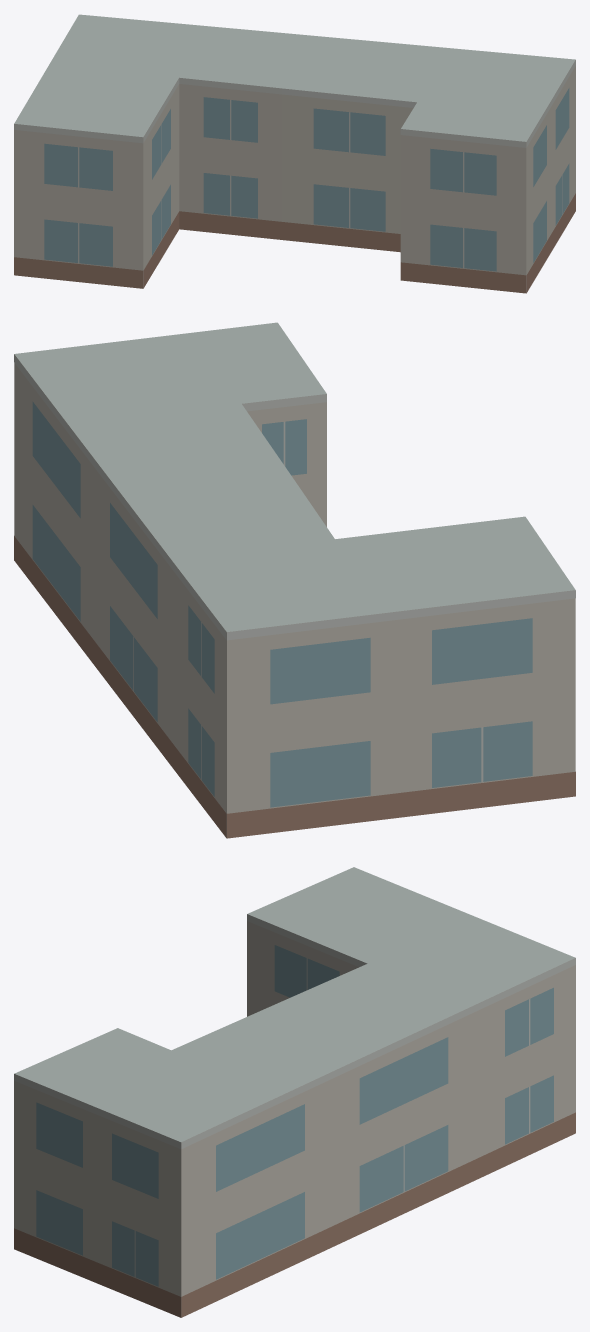
Rendered from survey-upis-32755659.glb.
The picture shows the model from 3 angles, top to bottom: view 1: azimuth 30°, elevation 25°; view 2: azimuth 150°, elevation 25°; view 3: azimuth 270°, elevation 25°; orthographic projection. The views are drawn at different scales.
Parts seen in each view (by area): view 1: survey-upis-32755659.tmp; view 2: survey-upis-32755659.tmp; view 3: survey-upis-32755659.tmp.
Boxes of the visible parts, x1,y1,x2,y2 form: survey-upis-32755659.tmp: [14, 14, 575, 293]; survey-upis-32755659.tmp: [14, 322, 575, 838]; survey-upis-32755659.tmp: [14, 867, 575, 1317].
Bounding box in the file's own units: 20.53 × 6.1 × 17.7.
